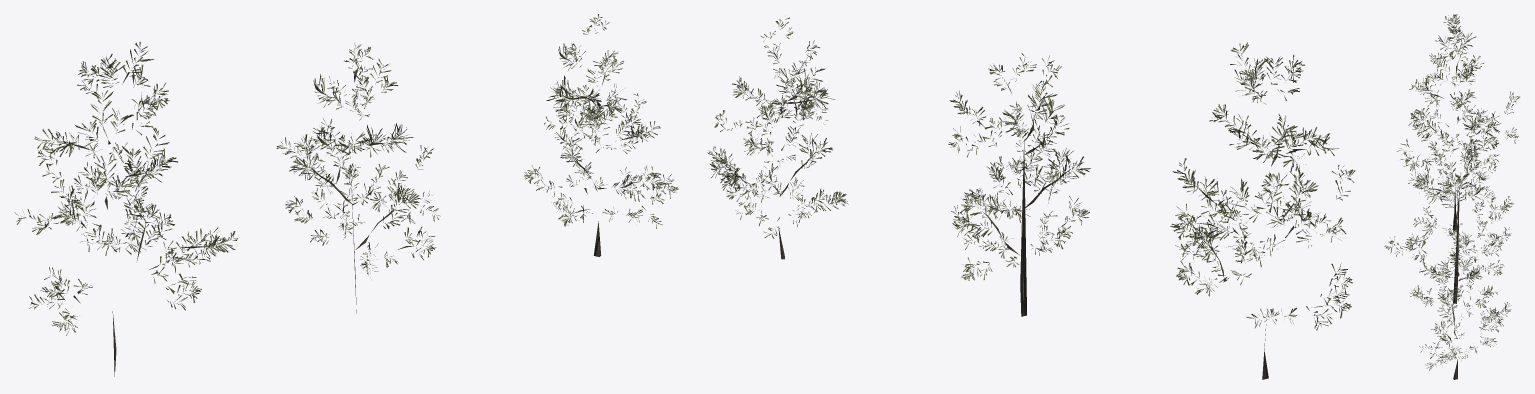
File: pine_sapling_small.glb
3 views of the same model, side by side, from view 1: azimuth 30°, elevation 25°; view 2: azimuth 150°, elevation 25°; view 3: azimuth 270°, elevation 25° (orthographic). The views are drawn at different scales.
Visible parts, largest first — view 1: pine_sapling_small_a, pine_sapling_small_b, pine_sapling_small_c; view 2: pine_sapling_small_a, pine_sapling_small_b, pine_sapling_small_c; view 3: pine_sapling_small_a, pine_sapling_small_b, pine_sapling_small_c.
Boxes of the visible parts, x1=… form: pine_sapling_small_a: x1=14, y1=41, x2=237, y2=376; pine_sapling_small_b: x1=276, y1=43, x2=440, y2=313; pine_sapling_small_c: x1=524, y1=14, x2=678, y2=256; pine_sapling_small_a: x1=1170, y1=42, x2=1355, y2=379; pine_sapling_small_b: x1=948, y1=53, x2=1090, y2=316; pine_sapling_small_c: x1=707, y1=17, x2=848, y2=259; pine_sapling_small_a: x1=1397, y1=14, x2=1519, y2=230; pine_sapling_small_b: x1=1384, y1=134, x2=1513, y2=303; pine_sapling_small_c: x1=1410, y1=224, x2=1511, y2=379.
Size of the model in its own units: 2.64 by 1.3 by 0.7572.
Materials: 2 (2 with a texture image).
